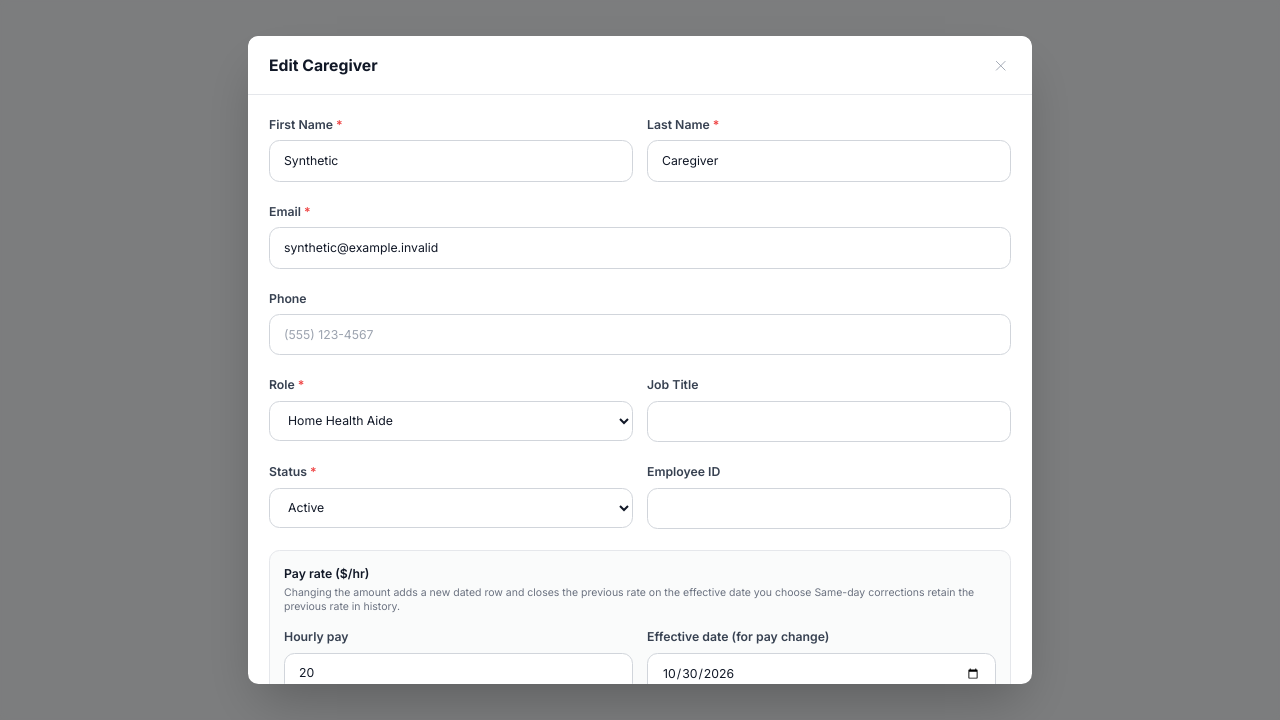
caregiver form disables native validation and rejects invalid precision inline
Replace the text in the number field labelled "Hourly pay" with "1.234" at [458, 673], box [284,653,633,694]
(page scrolled)
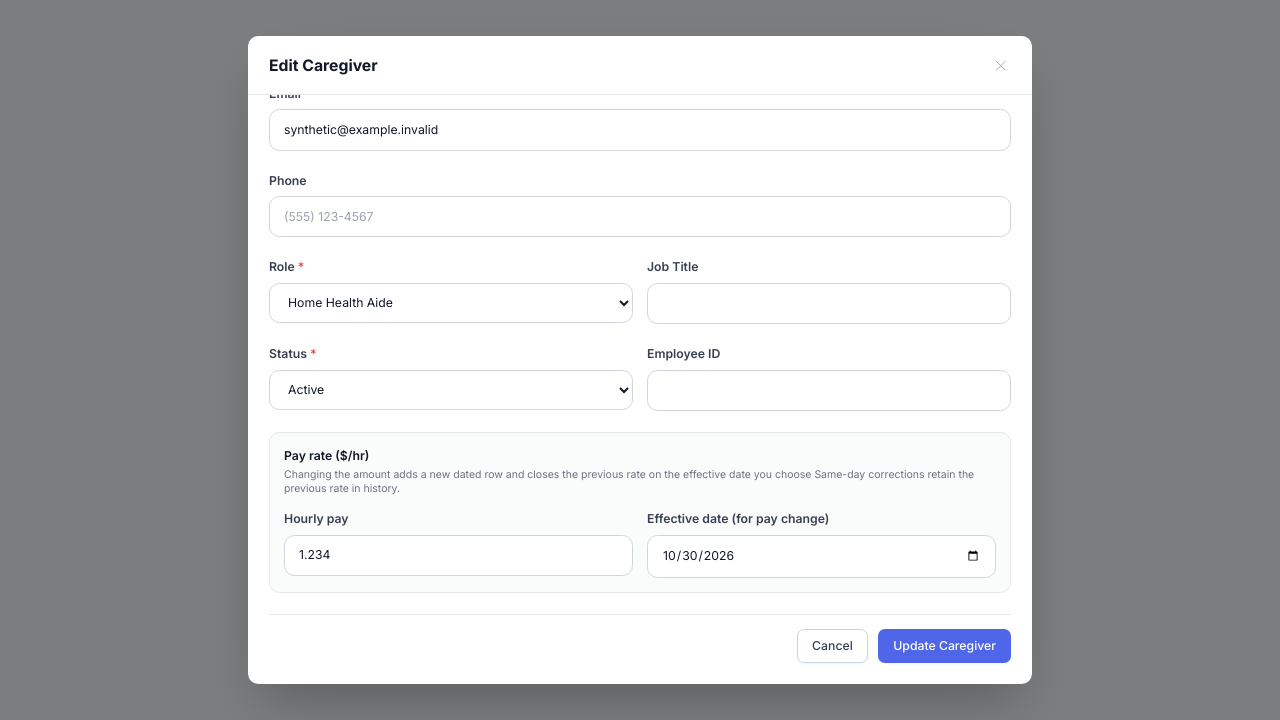
Click the button "Update Caregiver" at [945, 646], box [878,629,1011,662]
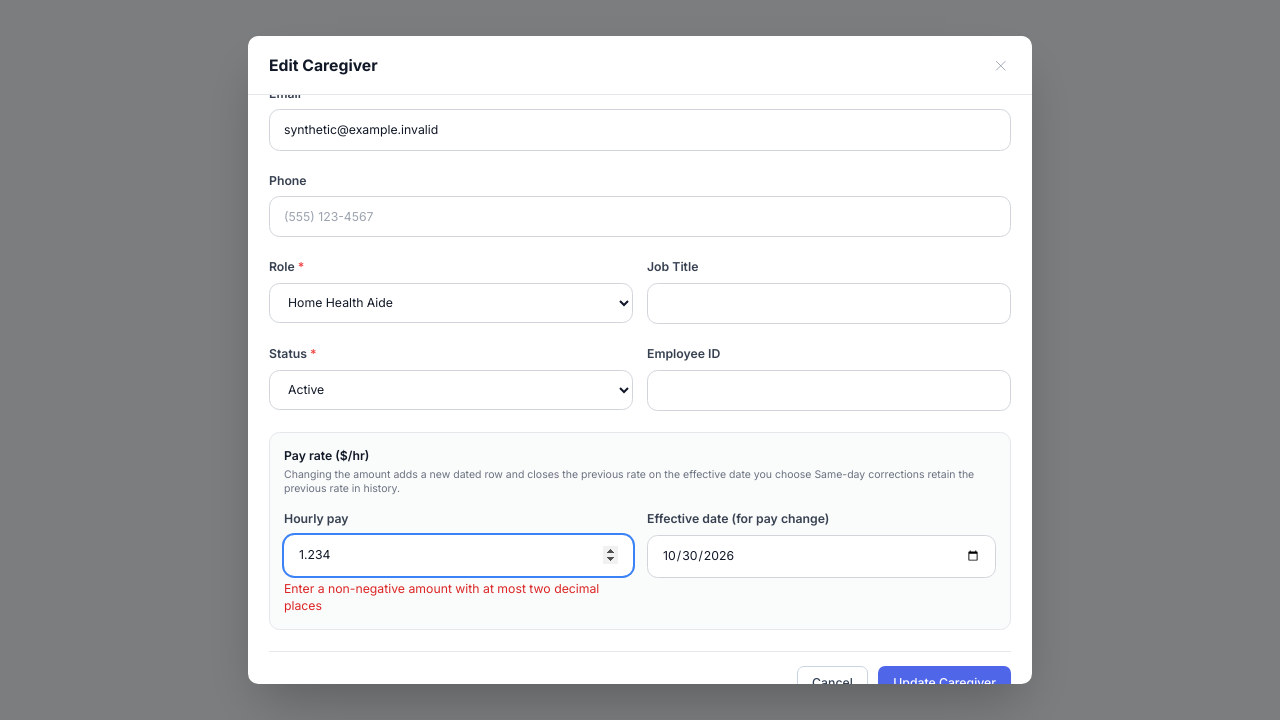
Expected: the text "Enter a non-negative amount with at most two decimal places" is shown, [284,580,633,614]
